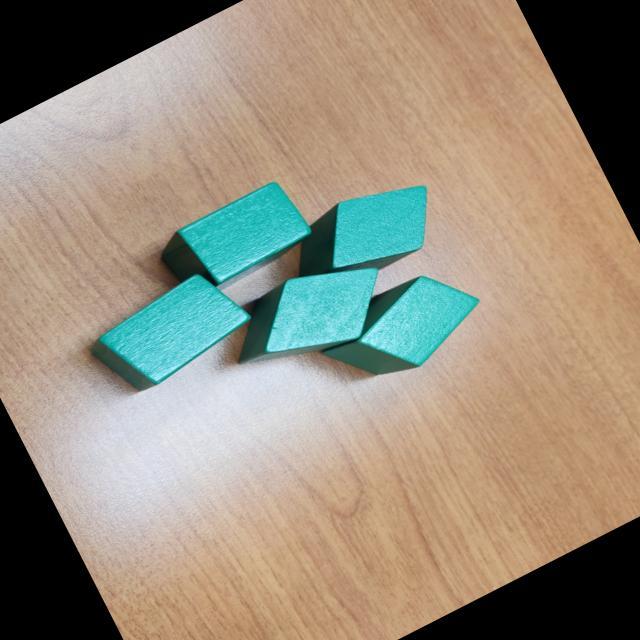green: (212, 238, 409, 394), (310, 253, 498, 405), (80, 260, 259, 406), (274, 162, 452, 306), (152, 175, 320, 309)
